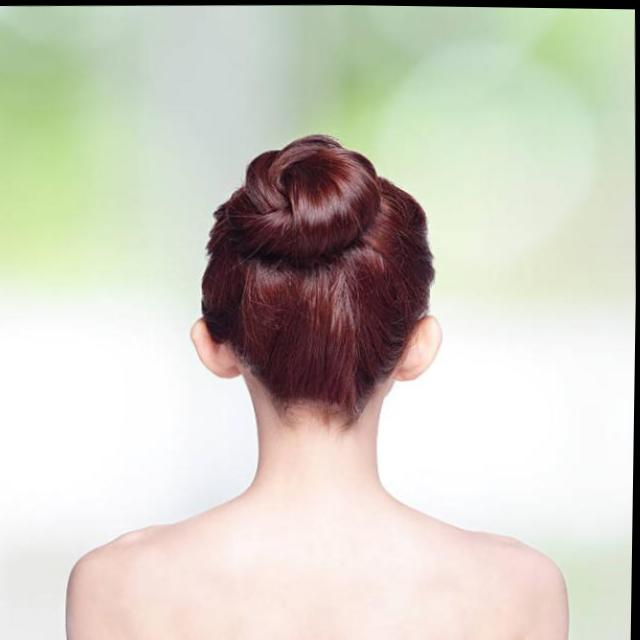no helmet: (184, 138, 452, 426)
